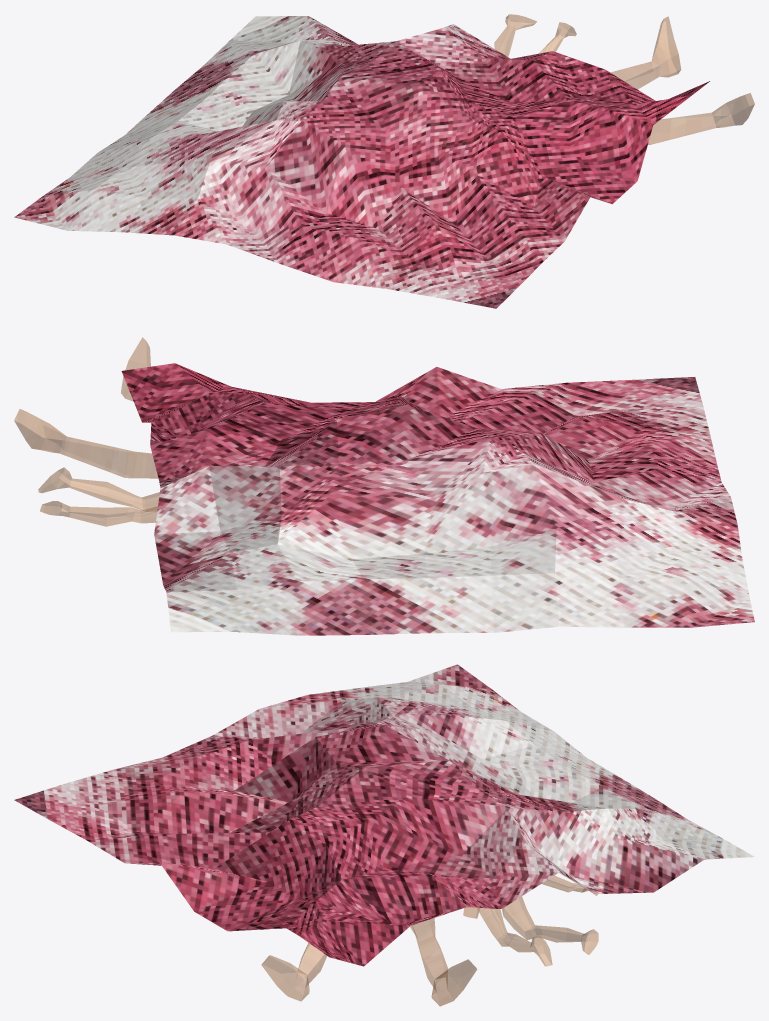
The model's file is Cuerpos.fbx.
3 views of the same model, one above another, from view 1: azimuth 30°, elevation 25°; view 2: azimuth 150°, elevation 25°; view 3: azimuth 270°, elevation 25° (orthographic). The views are drawn at different scales.
Parts seen in each view (by area): view 1: Plane, Cuerpo1, Cylinder; view 2: Plane, Cuerpo1, Cylinder; view 3: Plane, Cuerpo1, Cylinder.
Boxes of the visible parts, <box> form: Plane: <box>14,16,709,308</box>; Cuerpo1: <box>610,16,754,144</box>; Cylinder: <box>494,14,576,56</box>; Plane: <box>121,363,754,635</box>; Cuerpo1: <box>14,337,158,478</box>; Cylinder: <box>38,467,159,526</box>; Plane: <box>14,664,754,966</box>; Cuerpo1: <box>261,907,479,1006</box>; Cylinder: <box>477,875,598,966</box>.
Size of the model in its own units: 180 by 29.56 by 168.
2 materials, 2 textured.
